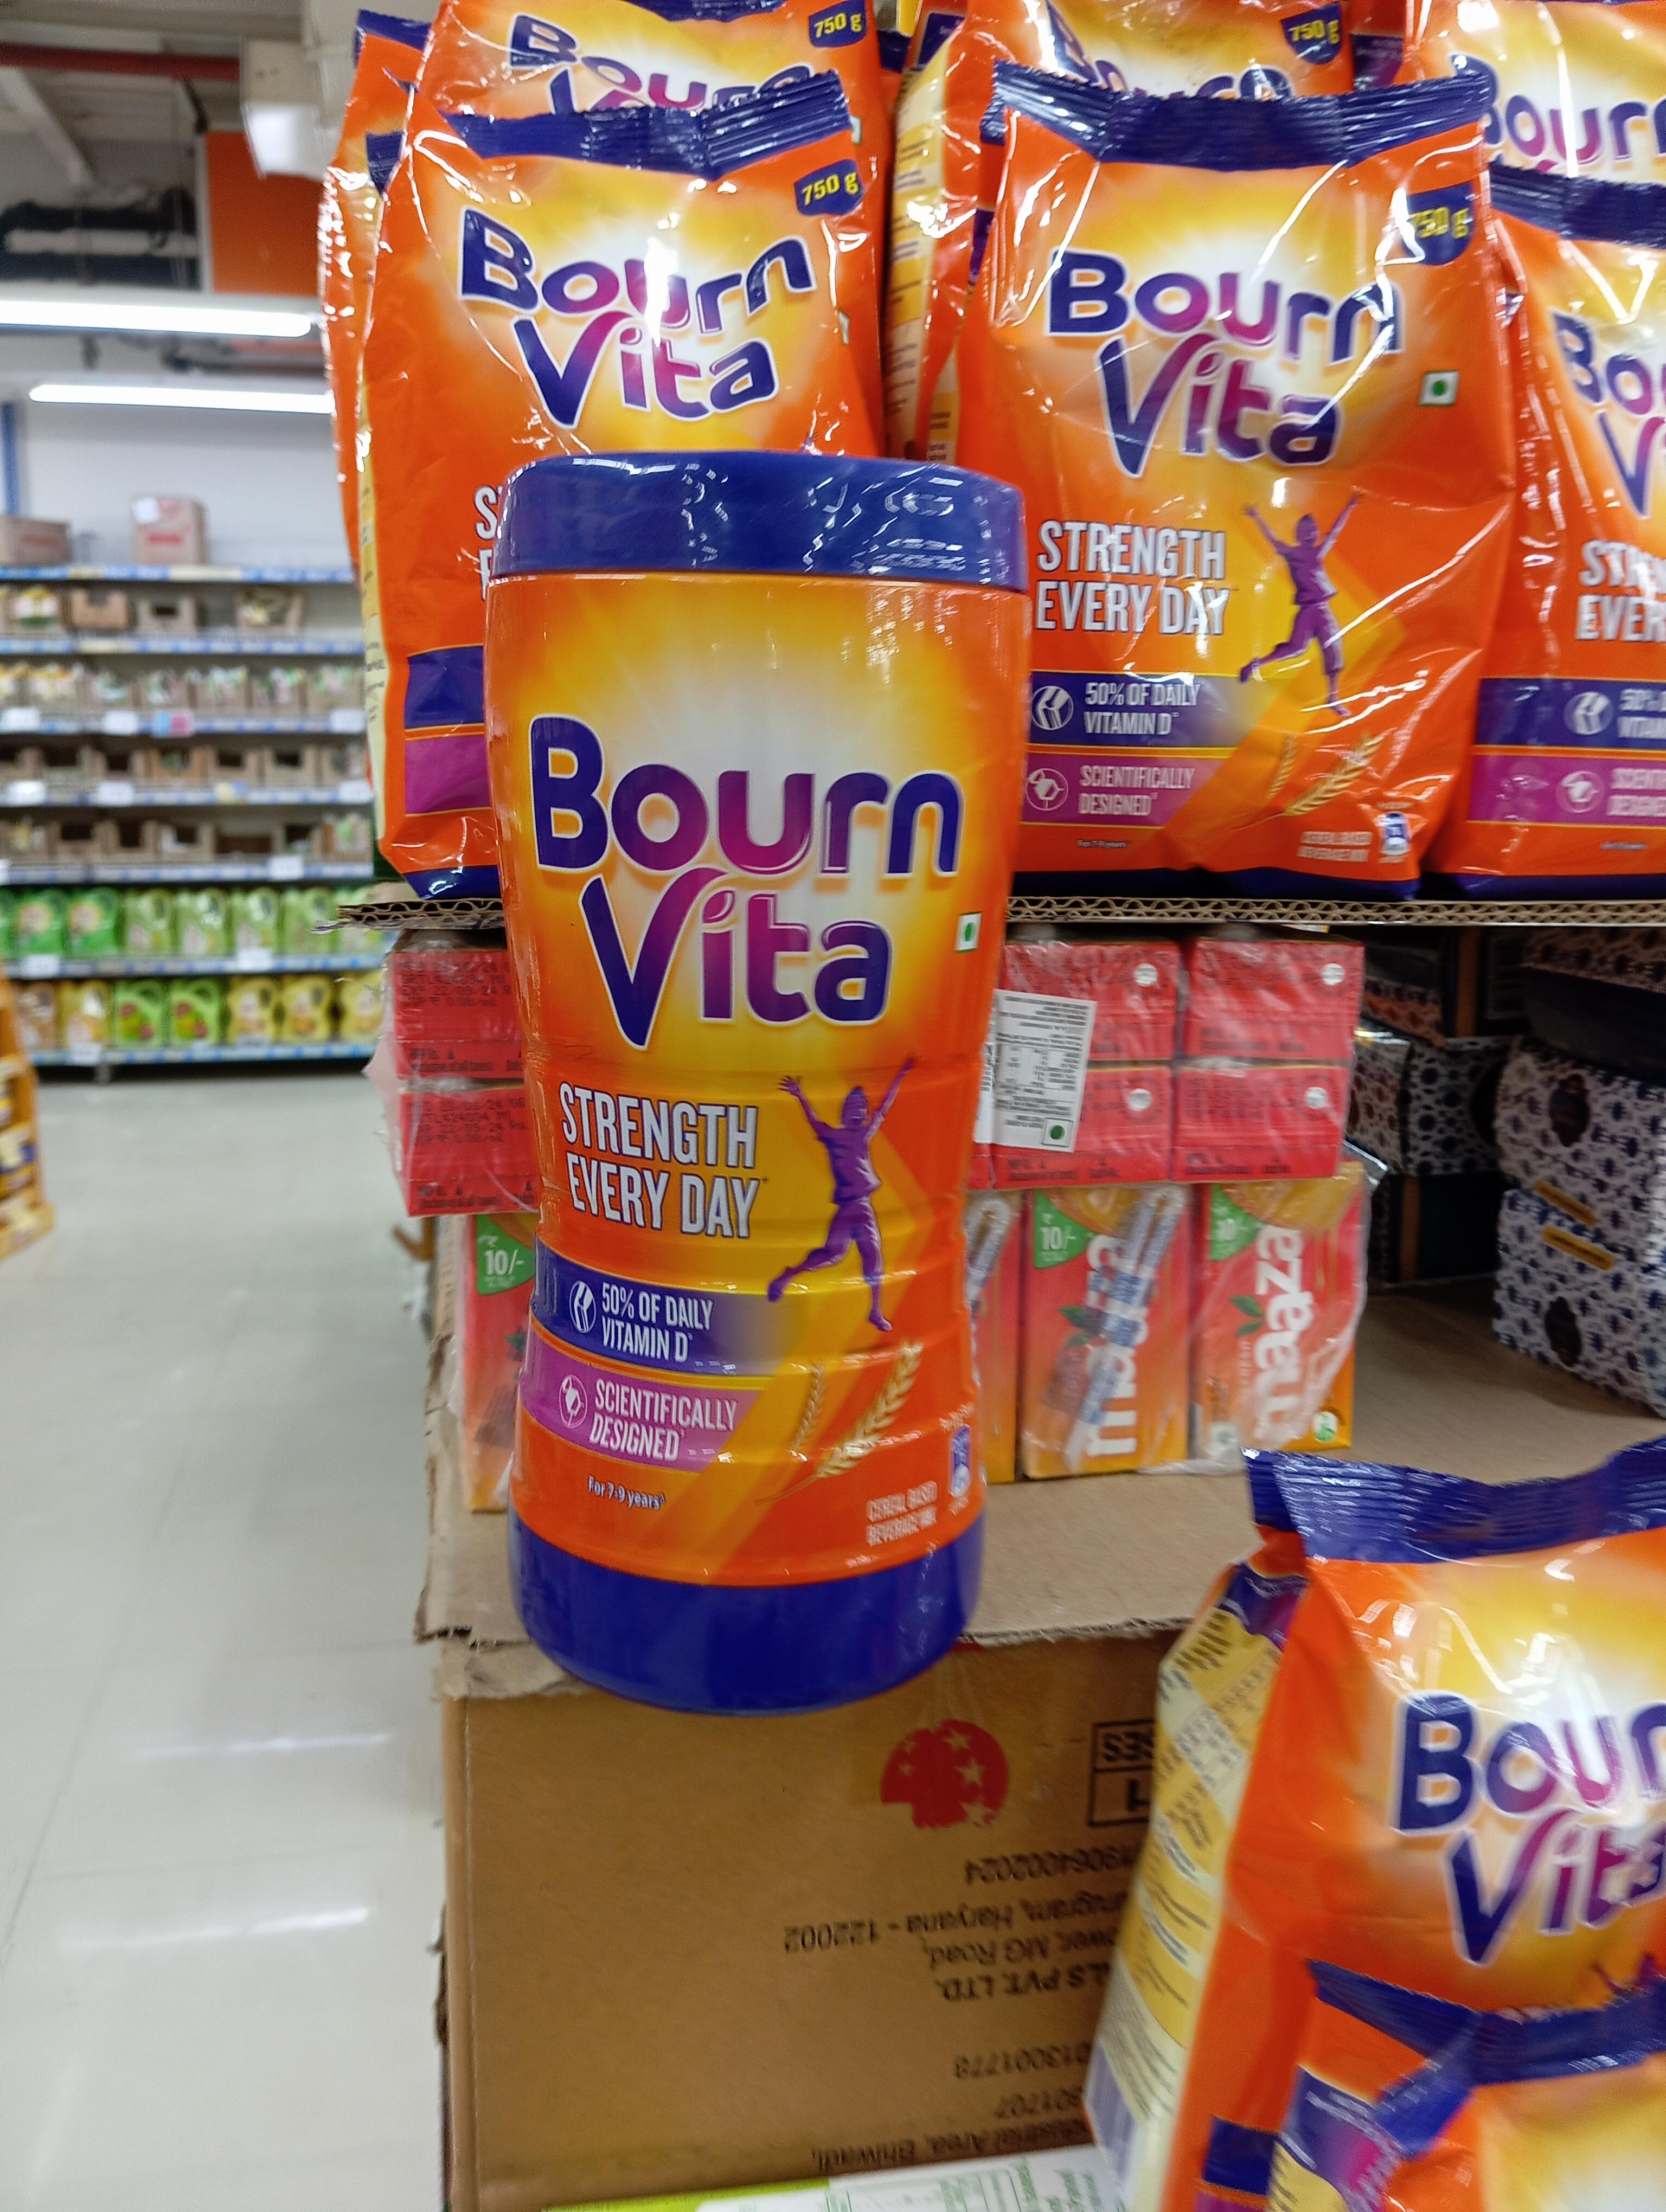BOURN_VITA_1_KG_JAR: (492, 423, 978, 1722)
